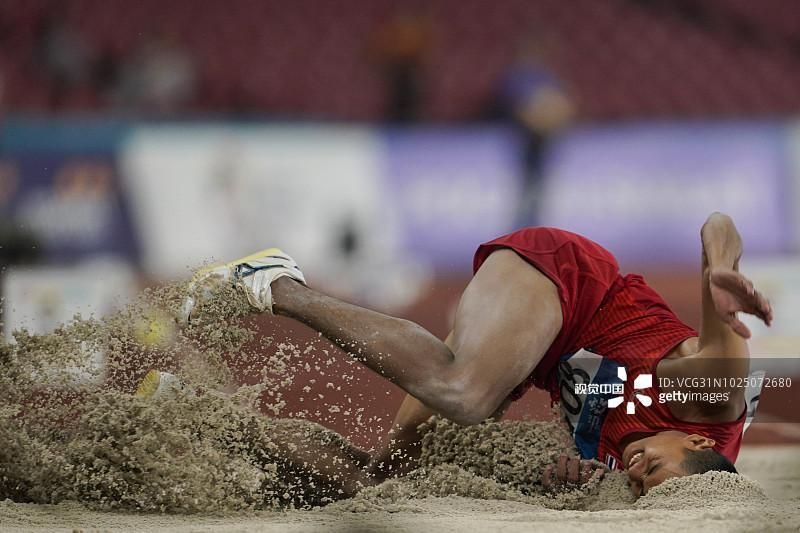Fall-Detected: (25, 176, 786, 527)
